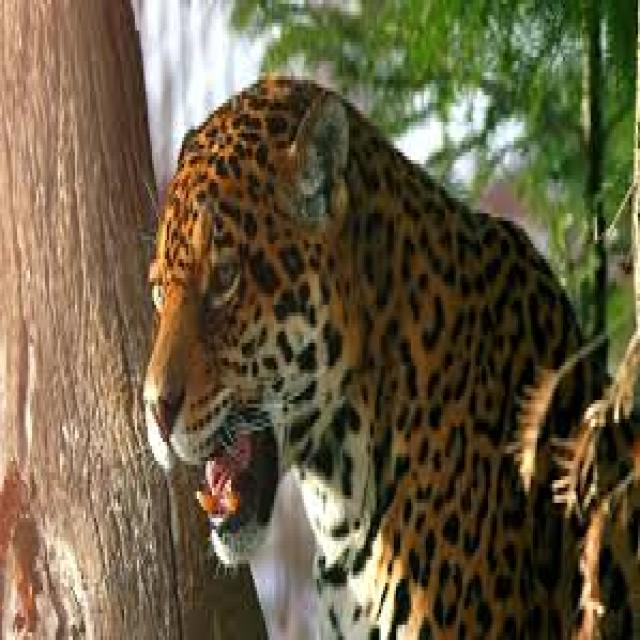Jaguar: (141, 65, 619, 640)
